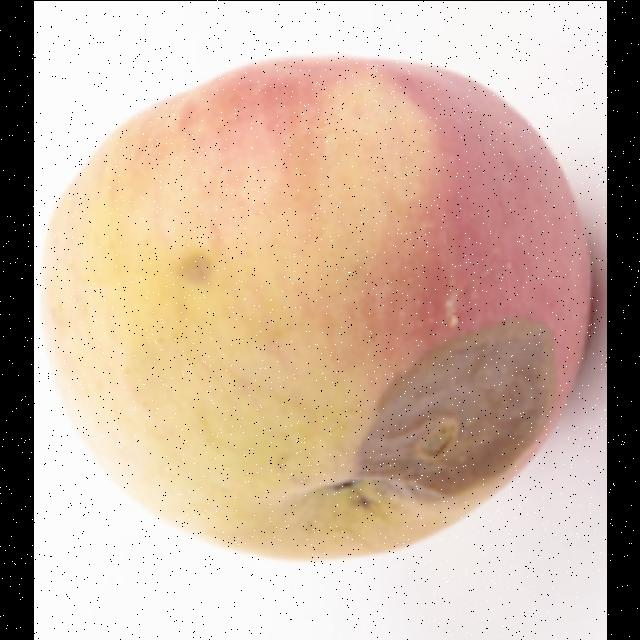Apel Tidak Segar: (33, 48, 600, 570)
